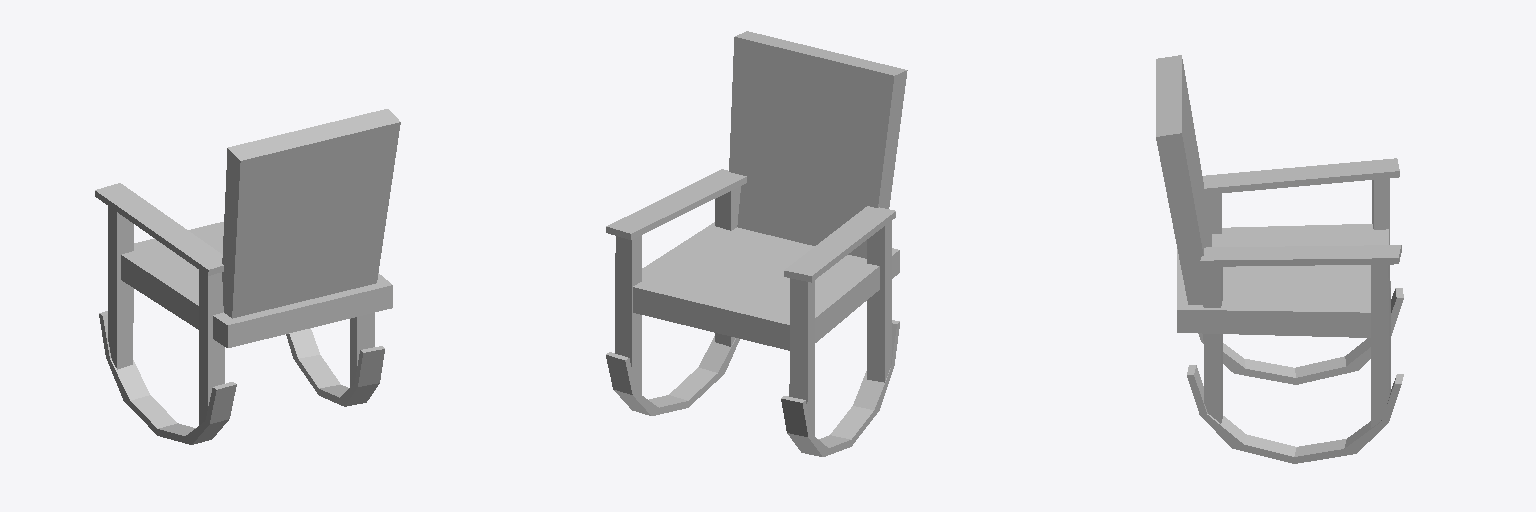
File: chair1.obj
3 renders of one model, left to right at view 1: azimuth 30°, elevation 25°; view 2: azimuth 150°, elevation 25°; view 3: azimuth 270°, elevation 25°, orthographic.
Parts seen in each view (by area): view 1: chair_Cube.016; view 2: chair_Cube.016; view 3: chair_Cube.016.
Part boxes in pixels (x1,y1,x2,y2): chair_Cube.016: (95,109,400,444); chair_Cube.016: (606,31,907,456); chair_Cube.016: (1156,55,1403,463).
Bounding box in the file's own units: 5.96 × 9.07 × 6.25.